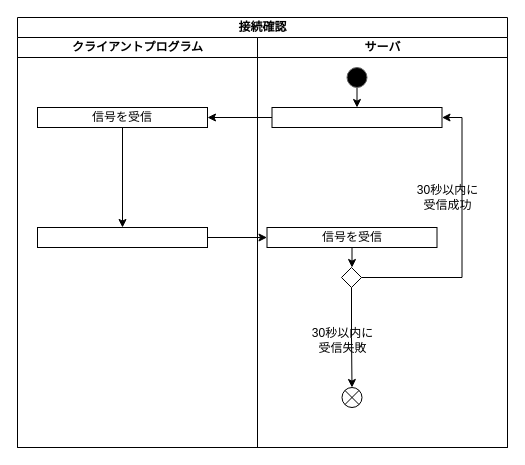
This 525x465 diagram has some shape labels left out. The centre of each missing label's shape, as x and y in pixels:
"5秒に1回信号を送信" belongs at pixel 356 117.
"信号を送信" belongs at pixel 122 237.
